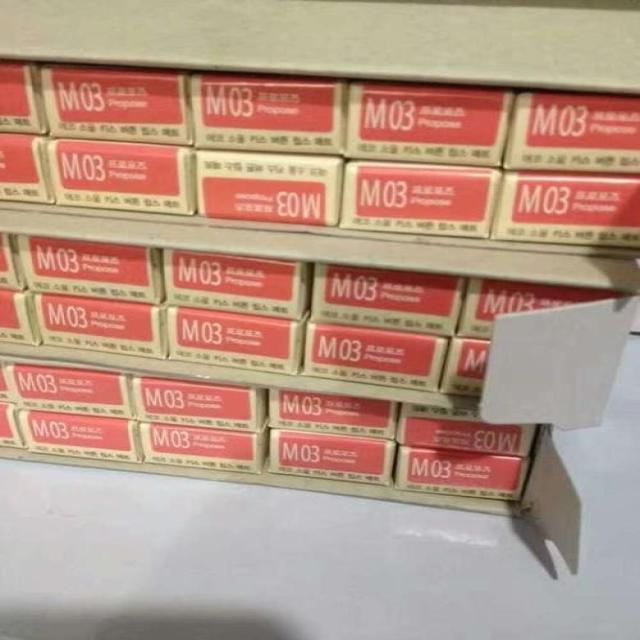box: (1, 201, 639, 293), (476, 295, 640, 577), (1, 447, 521, 514), (344, 83, 515, 168), (337, 158, 504, 239), (189, 74, 346, 157), (41, 62, 192, 148), (192, 147, 346, 228), (46, 135, 197, 217), (490, 169, 640, 249), (311, 264, 470, 338), (454, 276, 635, 341), (504, 91, 640, 175), (302, 321, 451, 394), (17, 233, 165, 306), (163, 249, 311, 321), (163, 306, 303, 376), (31, 293, 169, 361), (133, 374, 269, 434), (393, 402, 538, 458), (393, 444, 530, 503), (6, 363, 134, 421), (137, 419, 269, 475), (269, 430, 397, 486), (15, 411, 148, 463), (268, 389, 399, 440), (1, 133, 56, 204), (0, 63, 47, 136), (439, 340, 490, 397), (0, 286, 44, 345), (0, 232, 27, 291), (0, 403, 24, 449), (1, 361, 15, 405)
